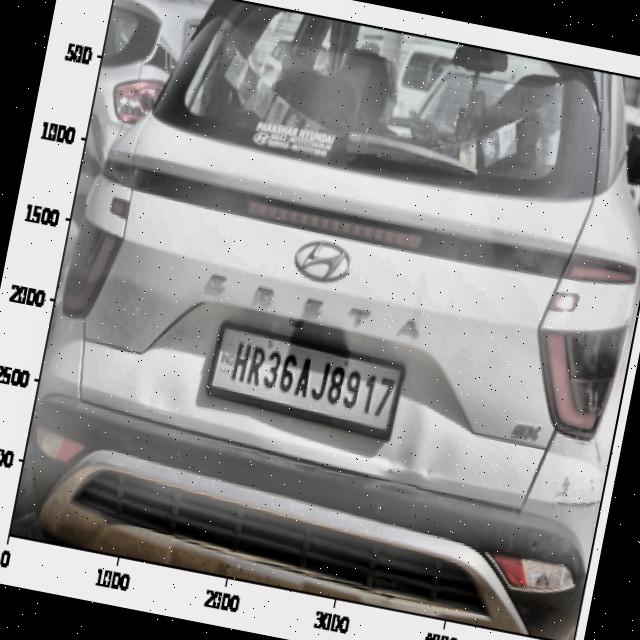license_plate: (222, 334, 403, 429)
